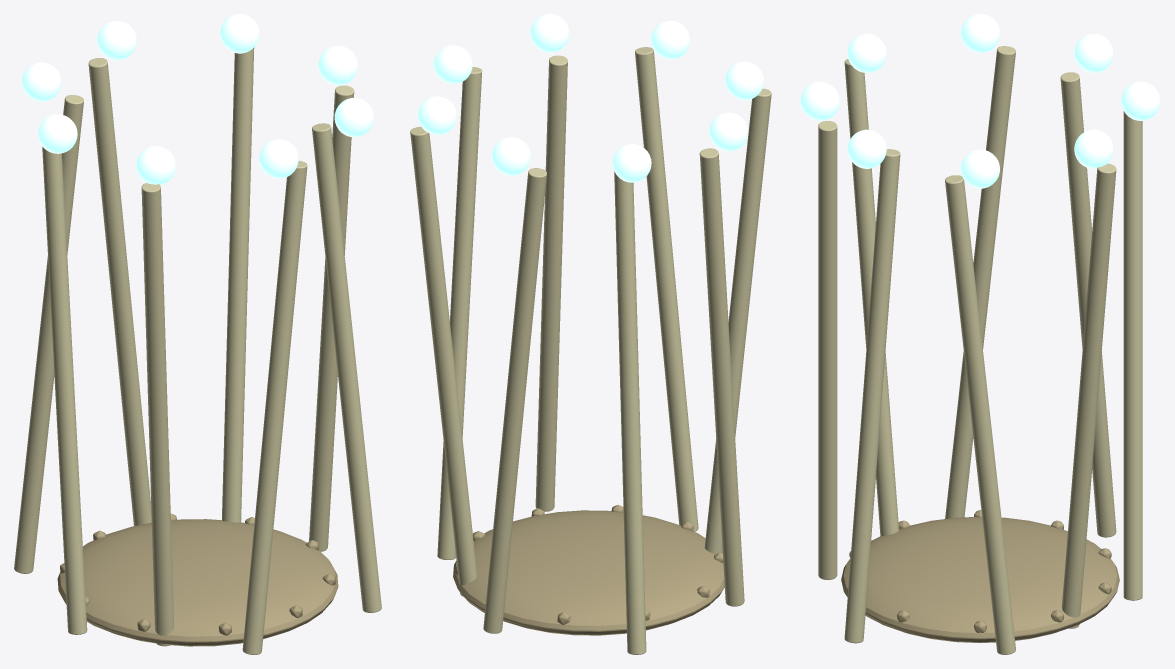
File: SM_PLT_SPIRAL_REED.fbx
The picture shows the model from 3 angles, left to right: view 1: azimuth 30°, elevation 25°; view 2: azimuth 150°, elevation 25°; view 3: azimuth 270°, elevation 25°; orthographic projection.
Visible parts, largest first — view 1: SM_PLT_SPIRAL_REED; view 2: SM_PLT_SPIRAL_REED; view 3: SM_PLT_SPIRAL_REED.
Part boxes in pixels (x1,y1,x2,y2): SM_PLT_SPIRAL_REED: [14, 14, 381, 654]; SM_PLT_SPIRAL_REED: [410, 14, 771, 654]; SM_PLT_SPIRAL_REED: [800, 14, 1160, 654].
Size of what is drawn, in the model's own units: 0.825 by 1.31 by 0.825.
